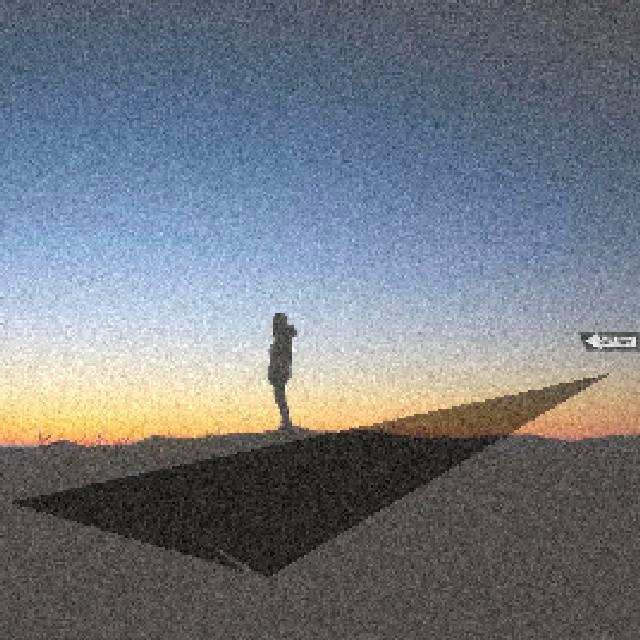ONE_WAY_ left: (576, 329, 638, 349)
